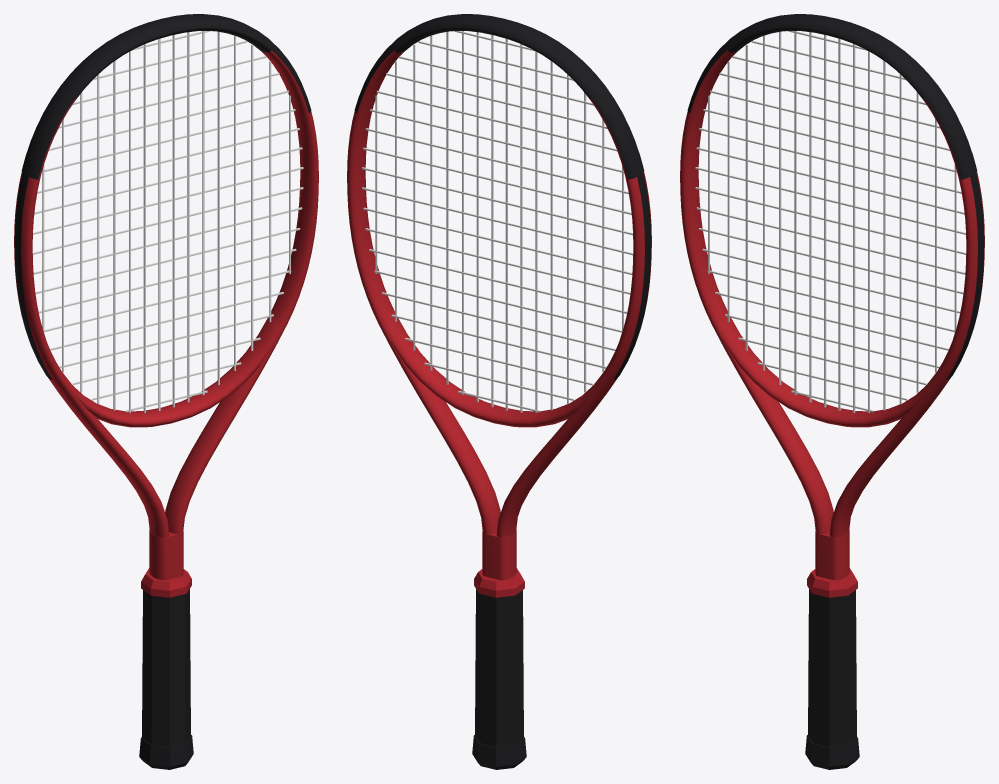
Rendered from wilson-clash-25-v2.glb.
The picture shows the model from 3 angles, left to right: view 1: azimuth 30°, elevation 25°; view 2: azimuth 150°, elevation 25°; view 3: azimuth 330°, elevation 25°; orthographic projection.
Visible parts, largest first — view 1: frame, strings_mains, strings_crosses, grip, bumper, grommets, butt_cap, collar; view 2: frame, strings_mains, strings_crosses, grip, bumper, grommets, butt_cap, collar; view 3: frame, strings_mains, strings_crosses, grip, bumper, grommets, butt_cap, collar.
Part boxes in pixels (box(x1,y1,x2,y2)): frame: box(14, 28, 318, 580); strings_mains: box(42, 31, 290, 413); strings_crosses: box(32, 31, 303, 412); grip: box(142, 589, 190, 746); bumper: box(21, 14, 311, 179); grommets: box(14, 172, 52, 379); butt_cap: box(139, 735, 193, 769); collar: box(141, 568, 191, 597); frame: box(347, 28, 651, 580); strings_mains: box(375, 31, 623, 412); strings_crosses: box(362, 31, 633, 412); grip: box(475, 589, 523, 746); bumper: box(354, 14, 644, 179); grommets: box(613, 172, 651, 379); butt_cap: box(472, 735, 526, 769); collar: box(474, 568, 524, 597); frame: box(680, 28, 984, 580); strings_mains: box(708, 31, 956, 413); strings_crosses: box(695, 31, 966, 412); grip: box(808, 589, 856, 746); bumper: box(687, 14, 977, 179); grommets: box(946, 172, 984, 379); butt_cap: box(805, 735, 859, 769); collar: box(807, 568, 857, 597).
Size of the model in its own units: 0.2687 by 0.6353 by 0.0396.
